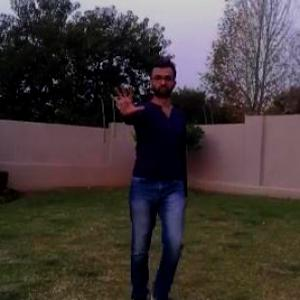follow_hand: (106, 77, 146, 116)
